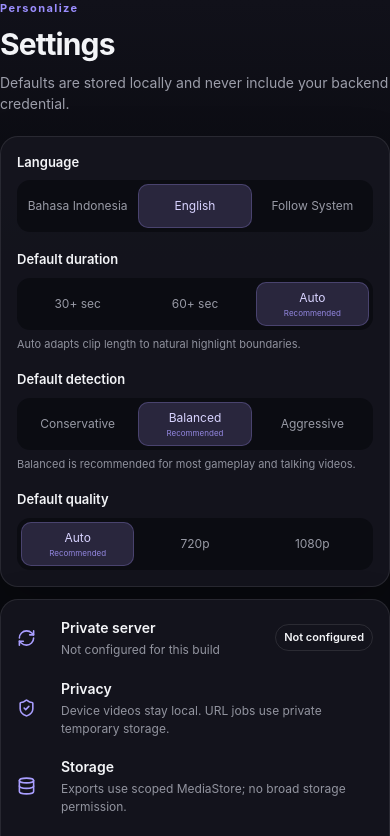
Test: library screens › opens the tappable private server details without secrets
Click the button "Private server Not configured for this build Not configured" at coordinates (108, 627), box [17,616,373,660]
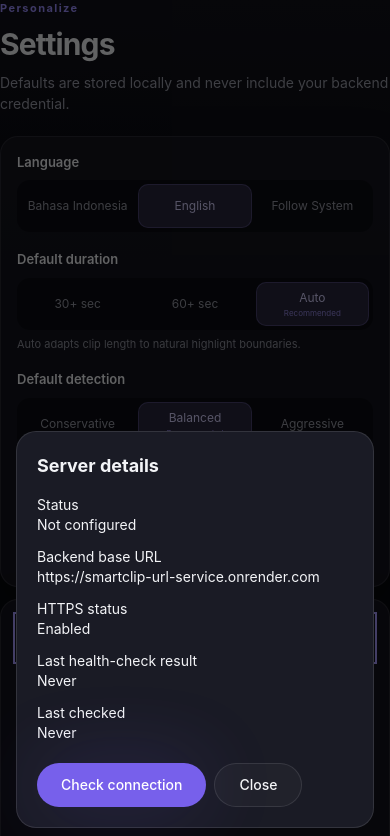
Expected: the dialog "Server details" shows "https://smartclip-url-service.onrender.com", [37,568,320,585]
Expected: the button "Check connection" is enabled, [37,763,206,807]
